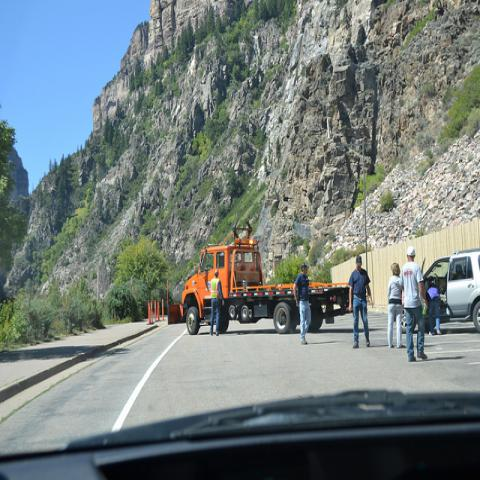car: (0, 388, 479, 479), (445, 246, 479, 332)
truck: (180, 219, 349, 335)
